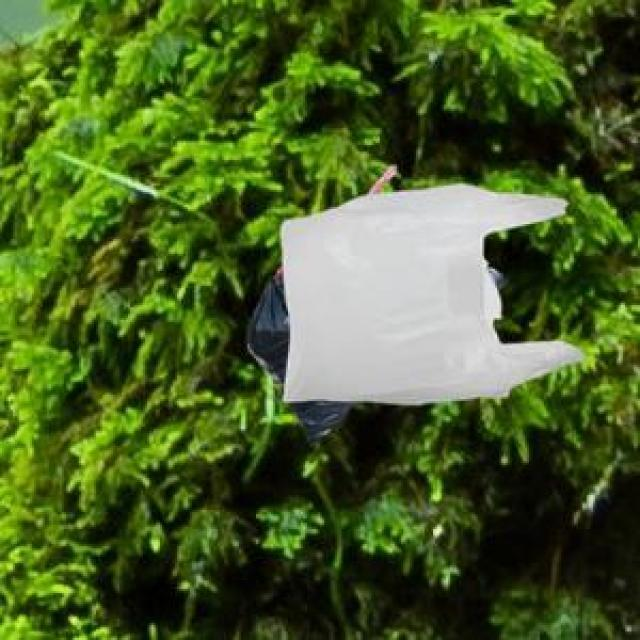miscellaneous trash: (243, 162, 504, 442)
